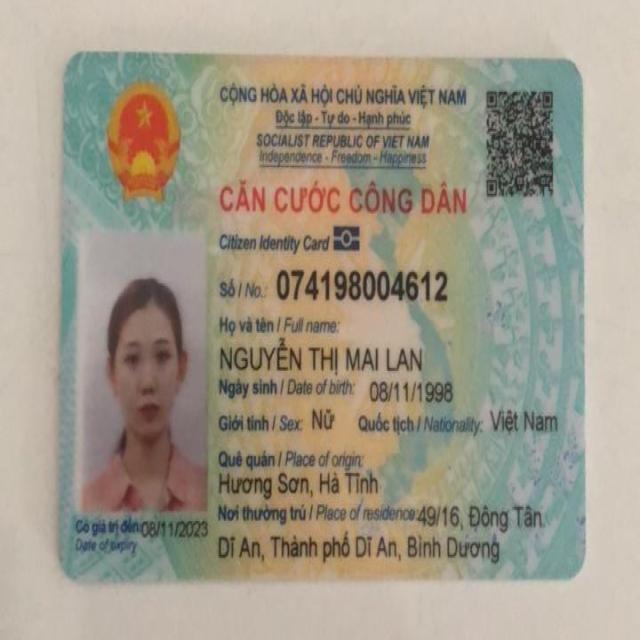bottom_left: (34, 534, 100, 600)
bottom_right: (540, 539, 601, 602)
image_person: (82, 235, 207, 515)
top_left: (48, 40, 101, 99)
top_right: (536, 34, 598, 91)
